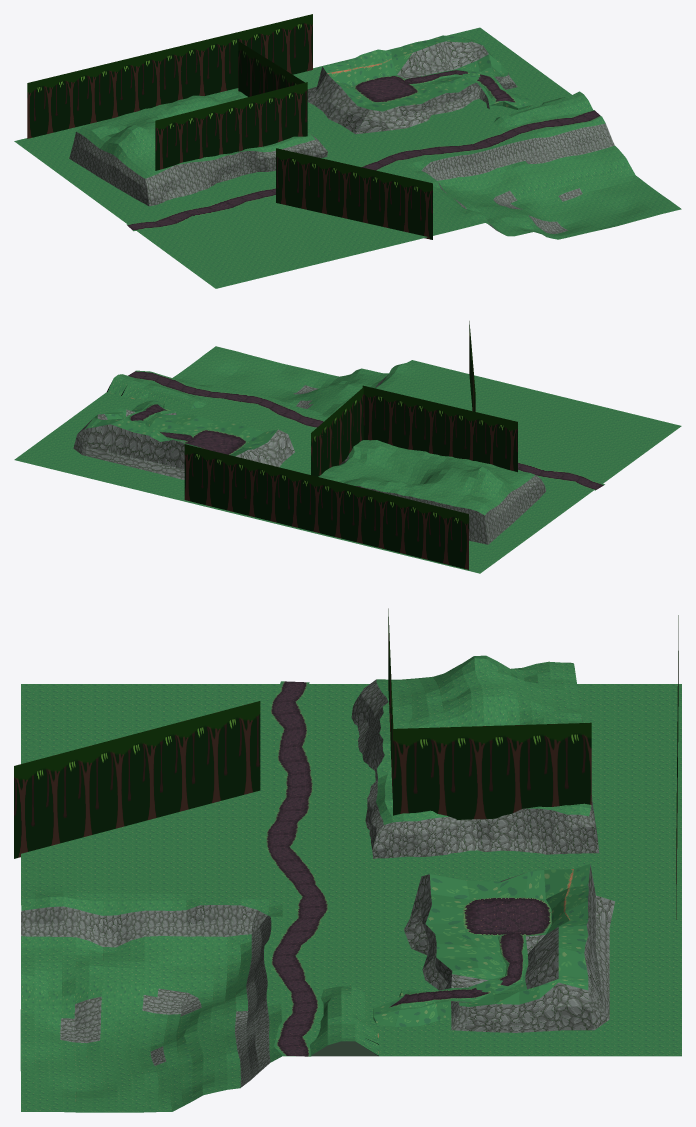
The model's file is woods1.fbx.
3 views of the same model, one above another, from view 1: azimuth 30°, elevation 25°; view 2: azimuth 150°, elevation 25°; view 3: azimuth 270°, elevation 25° (orthographic). The views are drawn at different scales.
Visible parts, largest first — view 1: Plane, Aga.003, Cube, Plane.002, Aga, Aga.001, Plane.001, Aga.002; view 2: Plane, Aga.003, Plane.002, Cube, Aga.001, Aga.002, Plane.001; view 3: Plane, Cube, Plane.002, Aga, Aga.002, Plane.001.
Boxes of the visible parts, left/top/right/bottom form: Plane: left=14, top=27, right=681, bottom=288; Aga.003: left=27, top=14, right=312, bottom=138; Cube: left=307, top=35, right=533, bottom=134; Plane.002: left=69, top=91, right=327, bottom=206; Aga: left=276, top=148, right=432, bottom=239; Aga.001: left=155, top=82, right=307, bottom=170; Plane.001: left=126, top=110, right=601, bottom=231; Aga.002: left=238, top=41, right=304, bottom=96; Plane: left=14, top=346, right=681, bottom=573; Aga.003: left=184, top=444, right=468, bottom=569; Plane.002: left=318, top=440, right=545, bottom=544; Cube: left=73, top=400, right=294, bottom=479; Aga.001: left=362, top=385, right=517, bottom=472; Aga.002: left=311, top=387, right=363, bottom=476; Plane.001: left=128, top=370, right=604, bottom=490; Plane: left=20, top=684, right=681, bottom=1112; Cube: left=373, top=864, right=614, bottom=1032; Plane.002: left=351, top=655, right=599, bottom=858; Aga: left=14, top=701, right=260, bottom=858; Aga.002: left=393, top=722, right=591, bottom=819; Plane.001: left=263, top=681, right=330, bottom=1056.
Bounding box in the file's own units: 9677 × 2258 × 7276.
Materials: 2 (2 with a texture image).
